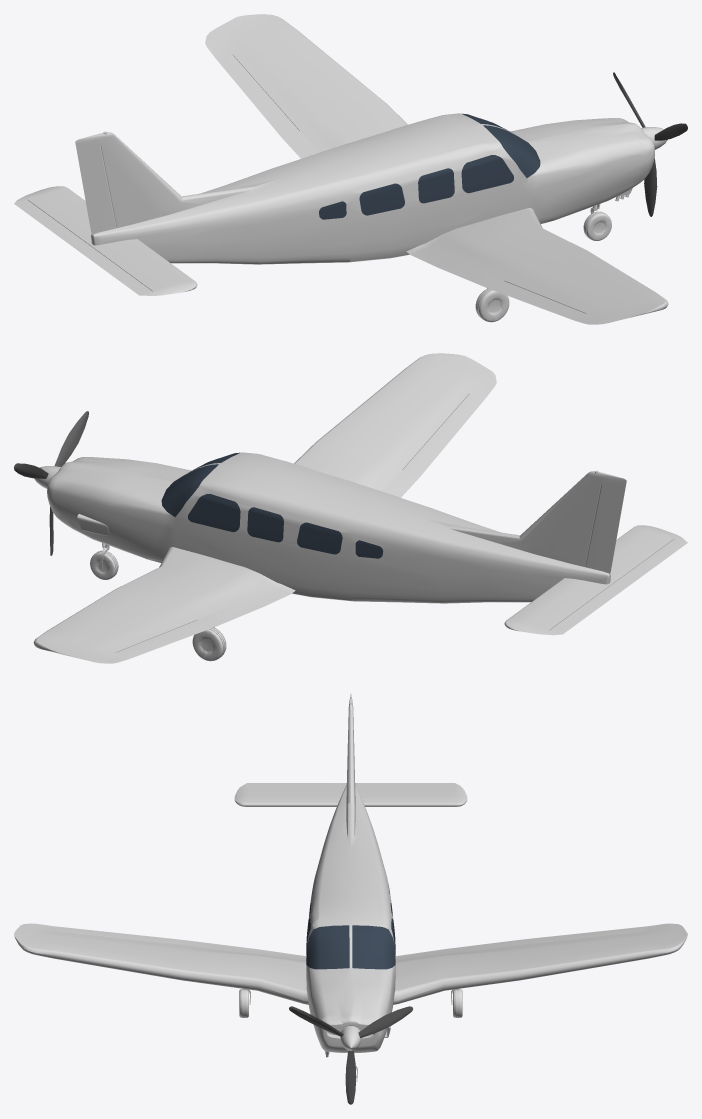
3 renders of one model, top to bottom at view 1: azimuth 30°, elevation 25°; view 2: azimuth 150°, elevation 25°; view 3: azimuth 270°, elevation 25°, orthographic. The views are drawn at different scales.
Visible parts, largest first — view 1: body, glass, spin; view 2: body, glass, spin; view 3: body, glass, spin.
Boxes of the visible parts, bbox=[...] form: body: bbox=[14, 14, 668, 324]; glass: bbox=[319, 113, 540, 219]; spin: bbox=[613, 72, 687, 216]; body: bbox=[33, 353, 687, 663]; glass: bbox=[161, 452, 383, 558]; spin: bbox=[14, 411, 88, 555]; body: bbox=[14, 693, 687, 1081]; glass: bbox=[306, 884, 395, 969]; spin: bbox=[289, 1006, 412, 1104].
Size of the model in its own units: 1.86 by 0.6811 by 2.2.
